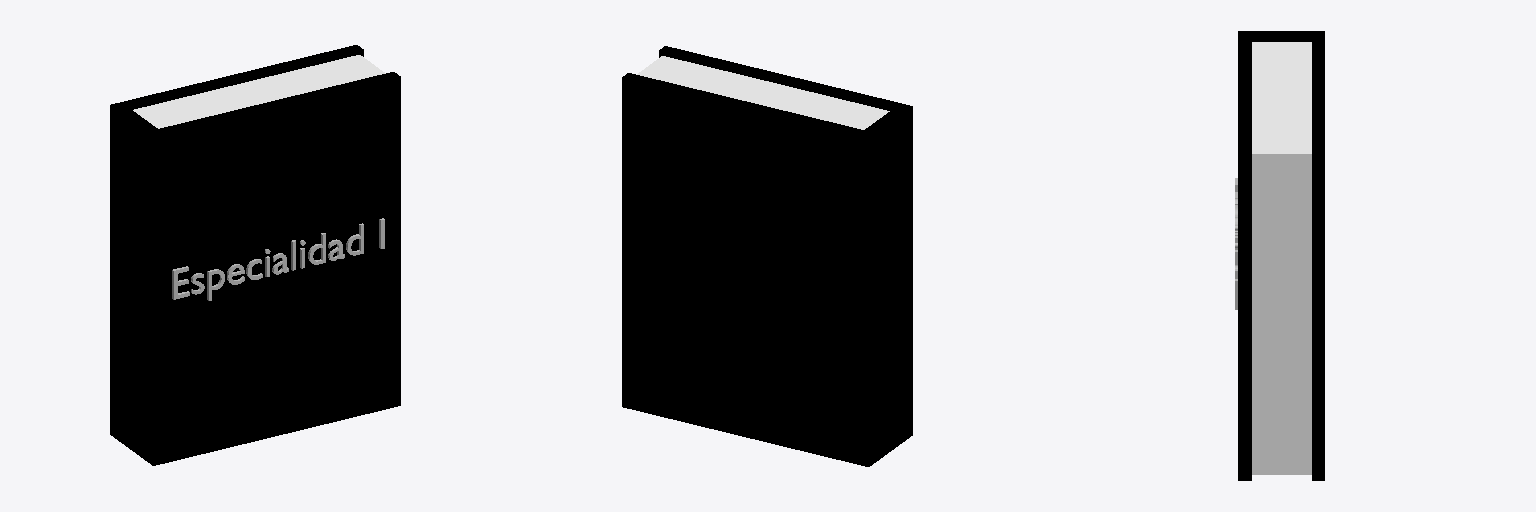
File: 7_especialidadI.obj
The picture shows the model from 3 angles: view 1: azimuth 30°, elevation 25°; view 2: azimuth 150°, elevation 25°; view 3: azimuth 270°, elevation 25°; orthographic projection.
Parts seen in each view (by area): view 1: mesh[number redacted], mesh[number redacted], mesh[number redacted], Text, mesh[number redacted]; view 2: mesh[number redacted], mesh[number redacted], mesh[number redacted], mesh[number redacted]; view 3: mesh[number redacted], mesh[number redacted], mesh[number redacted], mesh[number redacted].
Boxes of the visible parts, x1=… form: mesh[number redacted]: x1=159, y1=72, x2=400, y2=462; mesh[number redacted]: x1=110, y1=102, x2=164, y2=465; mesh[number redacted]: x1=133, y1=55, x2=385, y2=128; Text: x1=172, y1=218, x2=384, y2=300; mesh[number redacted]: x1=122, y1=45, x2=363, y2=109; mesh[number redacted]: x1=622, y1=73, x2=863, y2=463; mesh[number redacted]: x1=857, y1=103, x2=912, y2=466; mesh[number redacted]: x1=637, y1=56, x2=889, y2=129; mesh[number redacted]: x1=659, y1=46, x2=900, y2=110; mesh[number redacted]: x1=1252, y1=42, x2=1311, y2=474; mesh[number redacted]: x1=1238, y1=37, x2=1251, y2=480; mesh[number redacted]: x1=1312, y1=37, x2=1324, y2=480; mesh[number redacted]: x1=1238, y1=31, x2=1324, y2=41.
Size of the model in its own units: 1.28 by 1.63 by 0.4046.